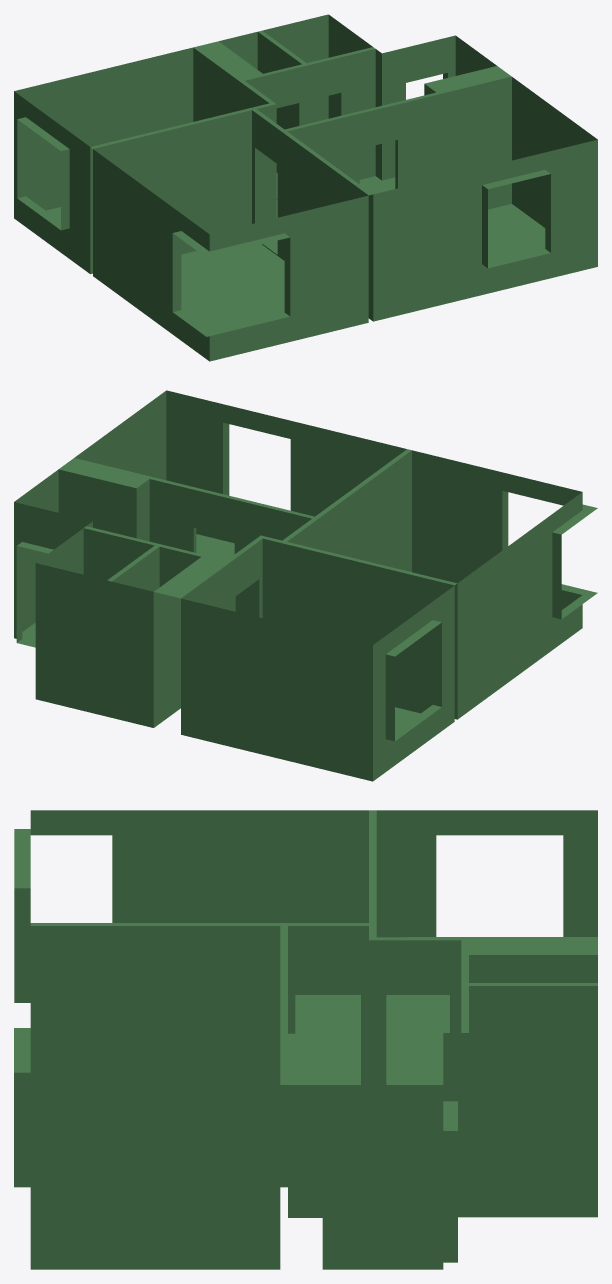
The model's file is Rooms_A_1_3_28.FBX.
3 renders of one model, top to bottom at view 1: azimuth 30°, elevation 25°; view 2: azimuth 150°, elevation 25°; view 3: azimuth 270°, elevation 25°, orthographic. The views are drawn at different scales.
Parts seen in each view (by area): view 1: Rooms_A_1_3_28; view 2: Rooms_A_1_3_28; view 3: Rooms_A_1_3_28.
Boxes of the visible parts, x1=… form: Rooms_A_1_3_28: x1=14, y1=14, x2=597, y2=361; Rooms_A_1_3_28: x1=14, y1=390, x2=597, y2=781; Rooms_A_1_3_28: x1=14, y1=810, x2=597, y2=1269.
Bounding box in the file's own units: 9.14 × 2.8 × 8.03.
